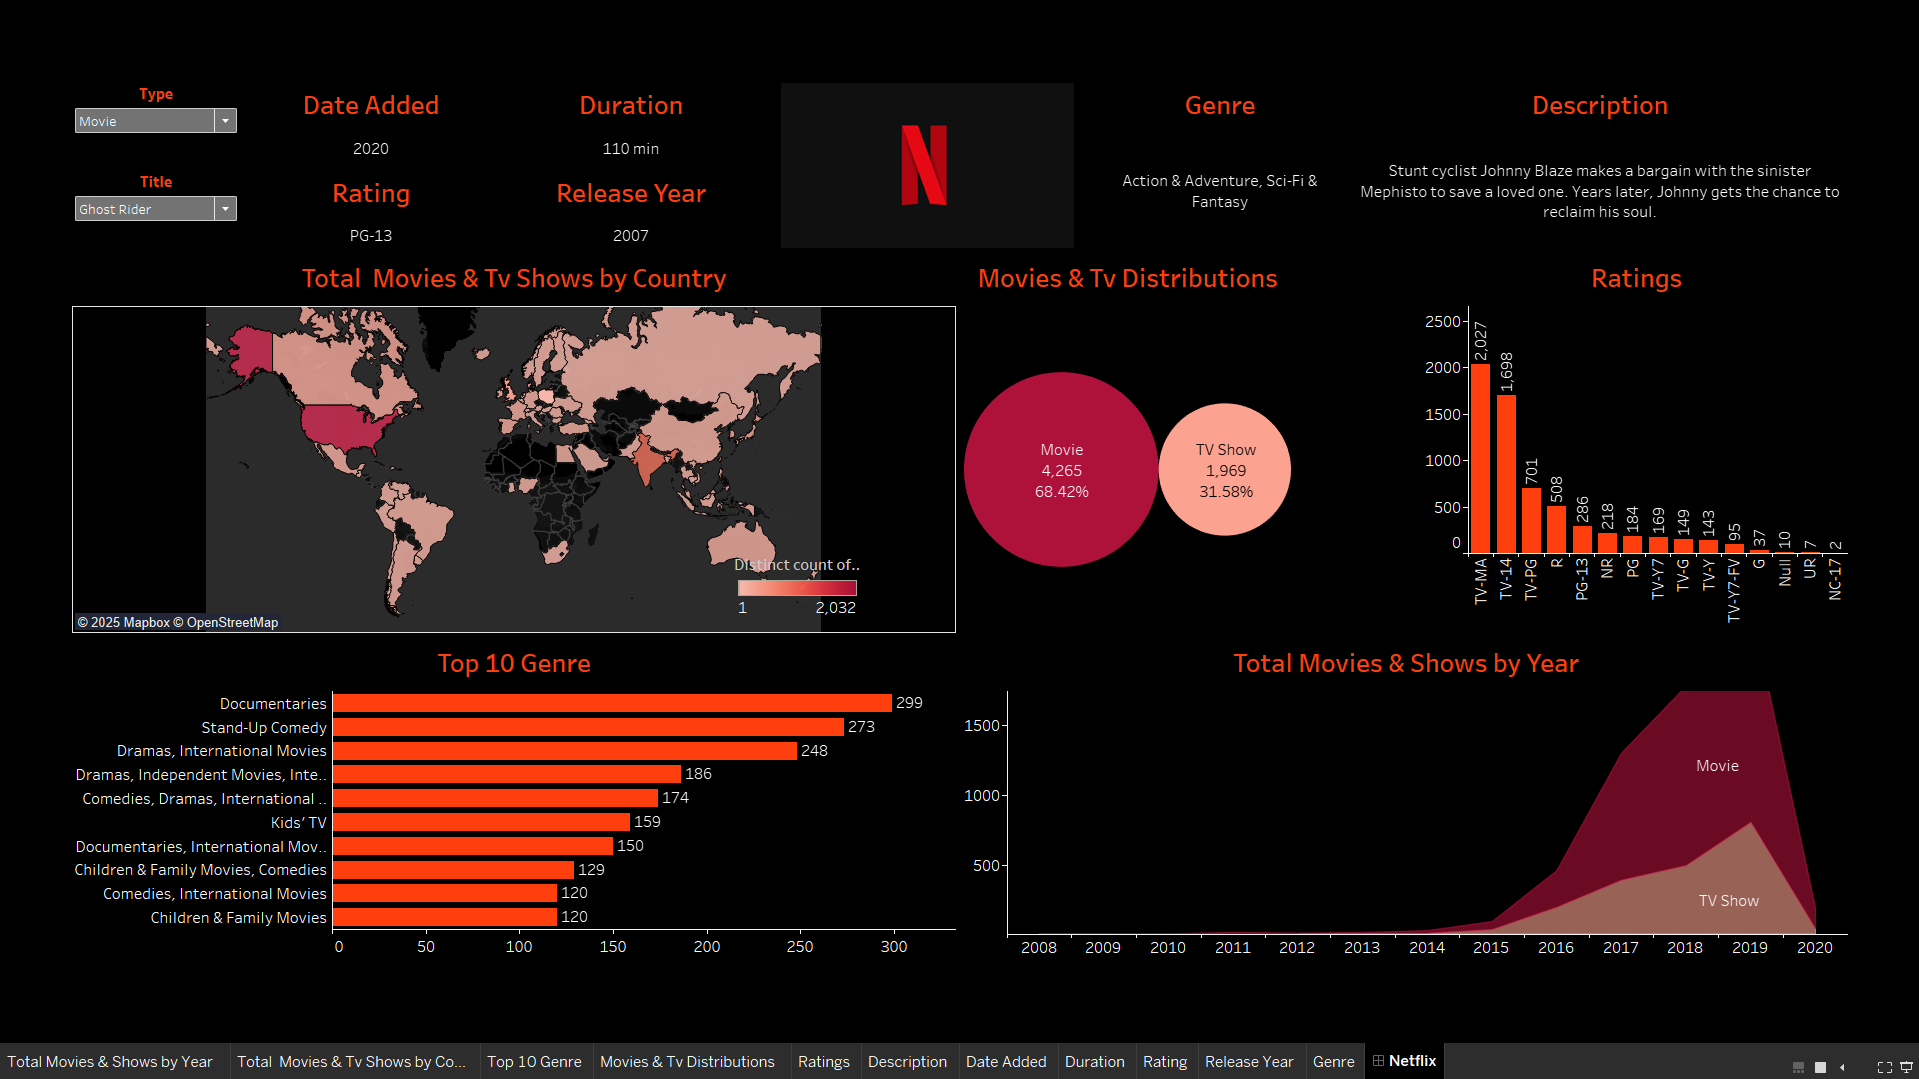

The dashboard page shown, as its layout file describes it:
{"tool":"tableau","page":{"name":"Netflix","canvas":[1800,900],"ordinal":0},"visuals":[{"type":"filter","title":"Description","param":"[federated.1s8ctdh0wbi17p14witzn1ky2yyr].[none:type:nk]","box":[8,8,175.8,88]},{"type":"worksheet","title":"Date Added","mark":"Automatic","box":[183.7,8,254.2,88]},{"type":"worksheet","title":"Duration","mark":"Automatic","box":[438,8,266,88]},{"type":"image","param":"C:/Users/AMAL K B/Downloads/netfliximg.png","box":[704,8,327.9,173]},{"type":"worksheet","title":"Genre","mark":"Automatic","box":[1031.8,8,255.9,173]},{"type":"worksheet","title":"Description","mark":"Automatic","box":[1287.8,8,504.2,173]},{"type":"filter","title":"Description","param":"[federated.1s8ctdh0wbi17p14witzn1ky2yyr].[none:title:nk]","box":[8,96,175.8,85]},{"type":"worksheet","title":"Rating","mark":"Automatic","box":[183.7,96,254.2,85]},{"type":"worksheet","title":"Release Year","mark":"Automatic","box":[438,96,266,85]},{"type":"worksheet","title":"Total  Movies & Tv Shows by Country","mark":"Multipolygon","box":[8,181,892,385]},{"type":"worksheet","title":"Movies & Tv Distributions","mark":"Circle","box":[900,181,461.4,385]},{"type":"worksheet","title":"Ratings","mark":"Automatic","rows":["show_id"],"cols":["rating"],"box":[1361.4,181,430.6,385]},{"type":"legend","title":"Total  Movies & Tv Shows by Country","param":"[federated.1s8ctdh0wbi17p14witzn1ky2yyr].[ctd:show_id:qk]","box":[674,483,127,63]},{"type":"worksheet","title":"Top 10 Genre","mark":"Automatic","rows":["listed_in"],"cols":["show_id"],"box":[8,566,892,326]},{"type":"worksheet","title":"Total Movies & Shows by Year","mark":"Area","rows":["show_id"],"cols":["date_added"],"box":[900,566,892,326]}]}

Visuals, with their boxes on the page's 1800x900 design canvas (x1, y1, x2, y2). These are canvas units, not pixel positions in the 1919x1079 screenshot, which may show the page scaled, cropped or inside an application window:
"Description" filter: bbox=(8, 8, 184, 96)
"Date Added" worksheet: bbox=(184, 8, 438, 96)
"Duration" worksheet: bbox=(438, 8, 704, 96)
image: bbox=(704, 8, 1032, 181)
"Genre" worksheet: bbox=(1032, 8, 1288, 181)
"Description" worksheet: bbox=(1288, 8, 1792, 181)
"Description" filter: bbox=(8, 96, 184, 181)
"Rating" worksheet: bbox=(184, 96, 438, 181)
"Release Year" worksheet: bbox=(438, 96, 704, 181)
"Total  Movies & Tv Shows by Country" worksheet (Multipolygon marks): bbox=(8, 181, 900, 566)
"Movies & Tv Distributions" worksheet (Circle marks): bbox=(900, 181, 1361, 566)
"Ratings" worksheet: bbox=(1361, 181, 1792, 566)
"Total  Movies & Tv Shows by Country" legend: bbox=(674, 483, 801, 546)
"Top 10 Genre" worksheet: bbox=(8, 566, 900, 892)
"Total Movies & Shows by Year" worksheet (Area marks): bbox=(900, 566, 1792, 892)
